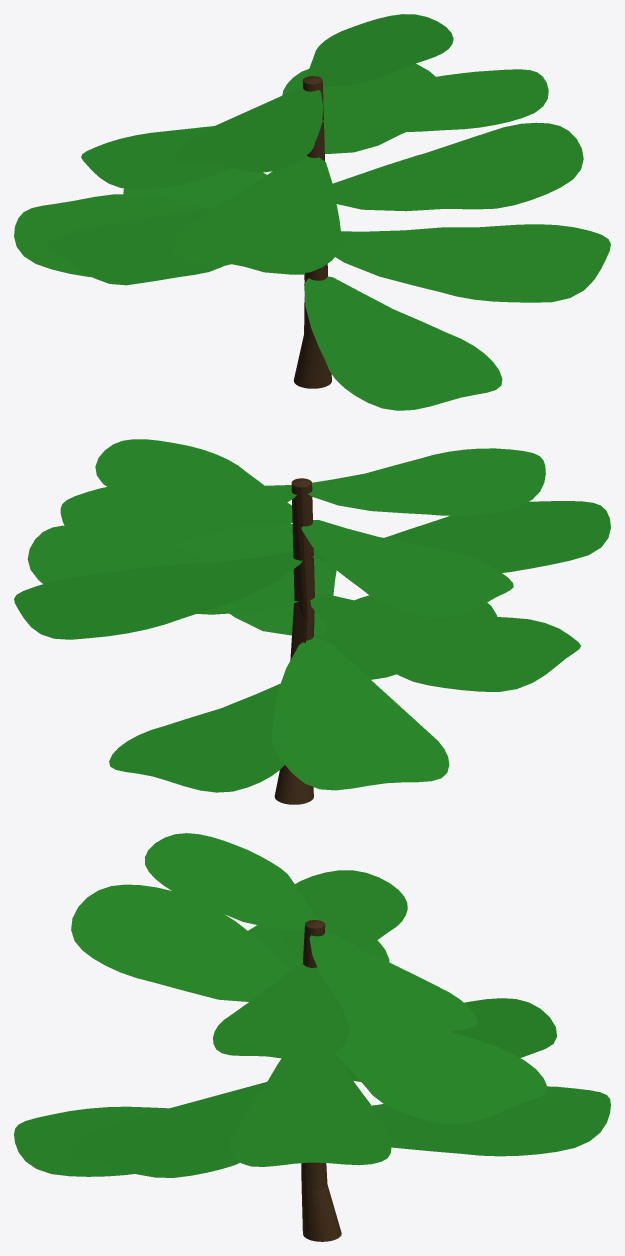
The model's file is Plant2.fbx.
The picture shows the model from 3 angles, top to bottom: view 1: azimuth 30°, elevation 25°; view 2: azimuth 150°, elevation 25°; view 3: azimuth 270°, elevation 25°; orthographic projection. The views are drawn at different scales.
Parts seen in each view (by area): view 1: bush.001; view 2: bush.001; view 3: bush.001.
Boxes of the visible parts, x1=… form: bush.001: x1=14, y1=14, x2=610, y2=410; bush.001: x1=14, y1=439, x2=610, y2=804; bush.001: x1=14, y1=833, x2=610, y2=1241.
Bounding box in the file's own units: 207 × 121 × 208.
